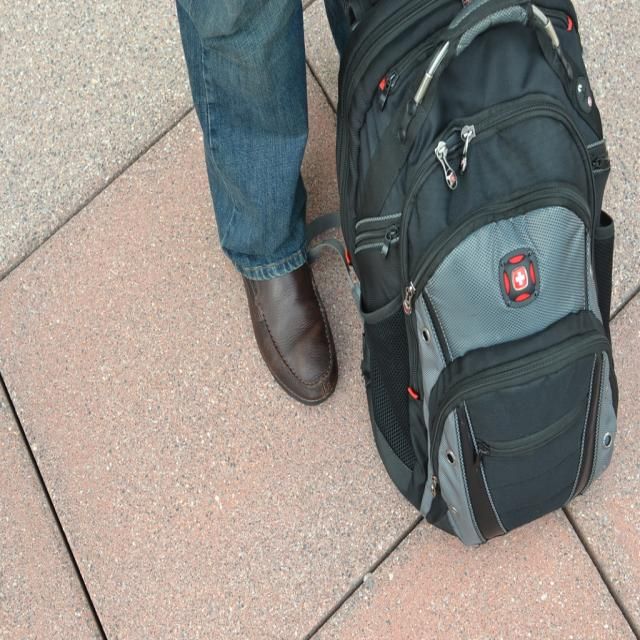backpack: (330, 6, 620, 547)
